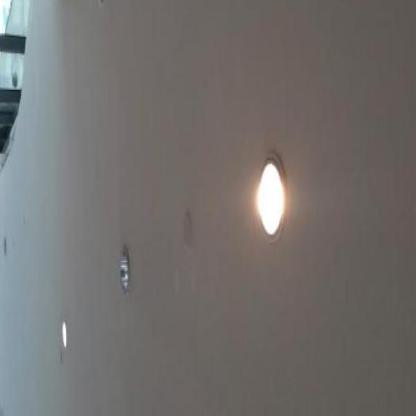light_on: (238, 142, 296, 250)
